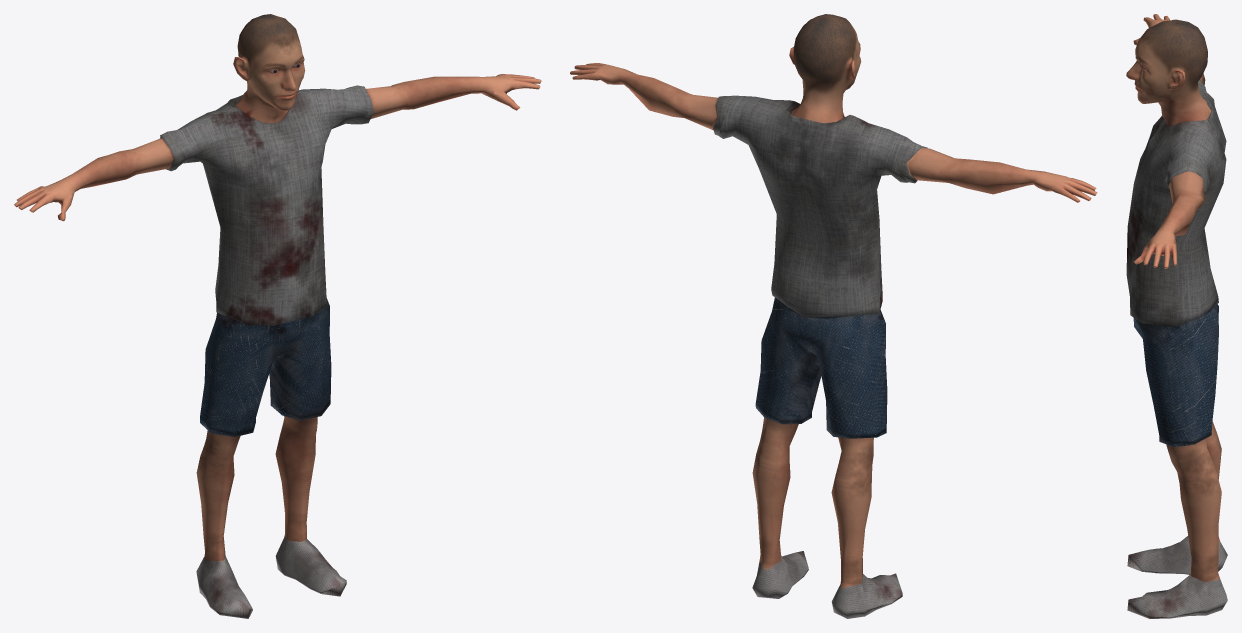
The model's file is Character4.fbx.fbx.
3 views of the same model, side by side, from view 1: azimuth 30°, elevation 25°; view 2: azimuth 150°, elevation 25°; view 3: azimuth 270°, elevation 25° (orthographic).
Visible parts, largest first — view 1: Mesh.003; view 2: Mesh.003; view 3: Mesh.003.
Part boxes in pixels (left/top/right/bottom): Mesh.003: left=14, top=14, right=541, bottom=618; Mesh.003: left=570, top=14, right=1097, bottom=618; Mesh.003: left=1126, top=14, right=1227, bottom=618.
Size of the model in its own units: 163 by 171 by 27.87.
1 material, 1 textured.
